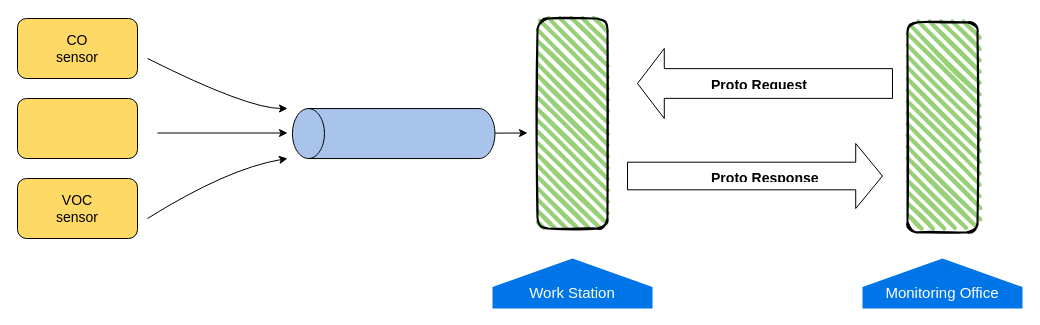
The diagram is 1040 pixels wide and 325 high, and some of its shapes have lost their labels. The centre of each missing label's shape, as x and y in pixels:
"CO2 sensor" belongs at (x=77, y=128).
"Queue" belongs at (x=393, y=133).
